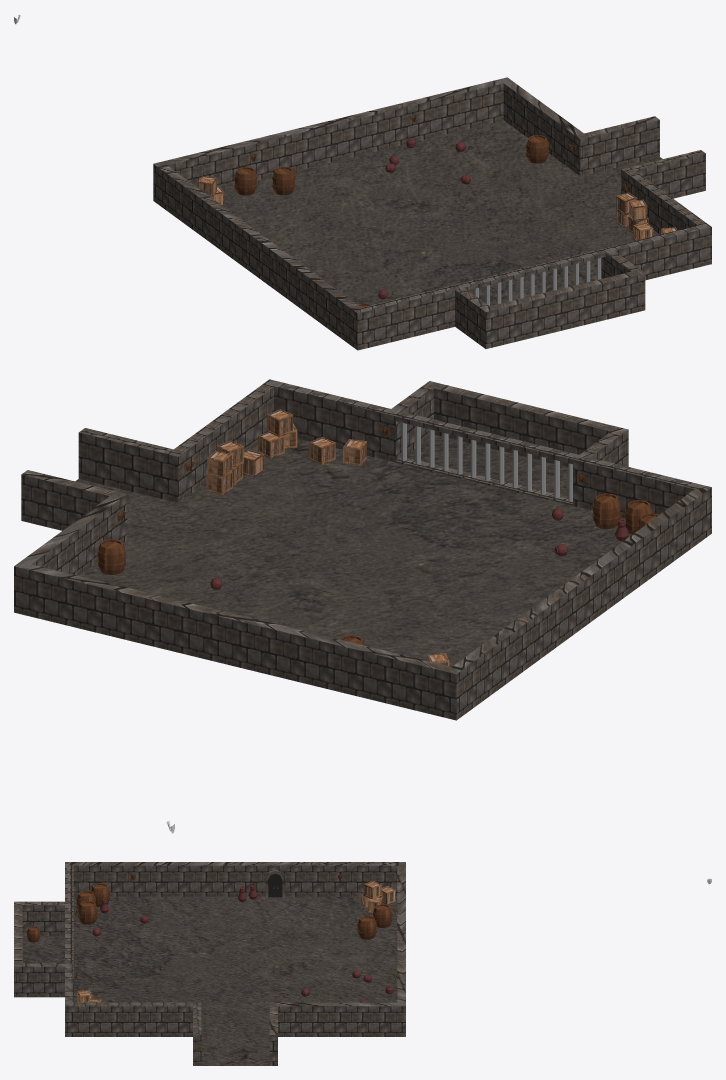
The model's file is room_one.glb.
The picture shows the model from 3 angles, top to bottom: view 1: azimuth 30°, elevation 25°; view 2: azimuth 150°, elevation 25°; view 3: azimuth 270°, elevation 25°; orthographic projection. The views are drawn at different scales.
Parts seen in each view (by area): view 1: Plane.001, Plane.005, Plane.002, beczka.004, beczka.005, beczka.006; view 2: Plane.001, Plane.005, Plane.002, beczka.006, beczka.003; view 3: Plane.005, Plane.001, Cube.002, beczka.003, beczka.005, beczka.004.
Part boxes in pixels (box(x1,y1,x2,y2)): Plane.001: box(153, 77, 711, 350); Plane.005: box(222, 120, 662, 305); Plane.002: box(474, 258, 601, 306); beczka.004: box(234, 167, 257, 195); beczka.005: box(272, 167, 295, 195); beczka.006: box(526, 135, 548, 163); Plane.001: box(14, 379, 711, 720); Plane.005: box(75, 435, 631, 666); Plane.002: box(401, 422, 572, 501); beczka.006: box(97, 539, 125, 574); beczka.003: box(592, 493, 620, 529); Plane.005: box(22, 896, 397, 1065); Plane.001: box(14, 862, 405, 1065); Cube.002: box(265, 869, 285, 897); beczka.003: box(78, 901, 97, 924); beczka.005: box(357, 916, 376, 939); beczka.004: box(373, 904, 392, 927).
Size of the model in its own units: 24 by 2.24 by 40.96.
6 materials, 4 textured.
